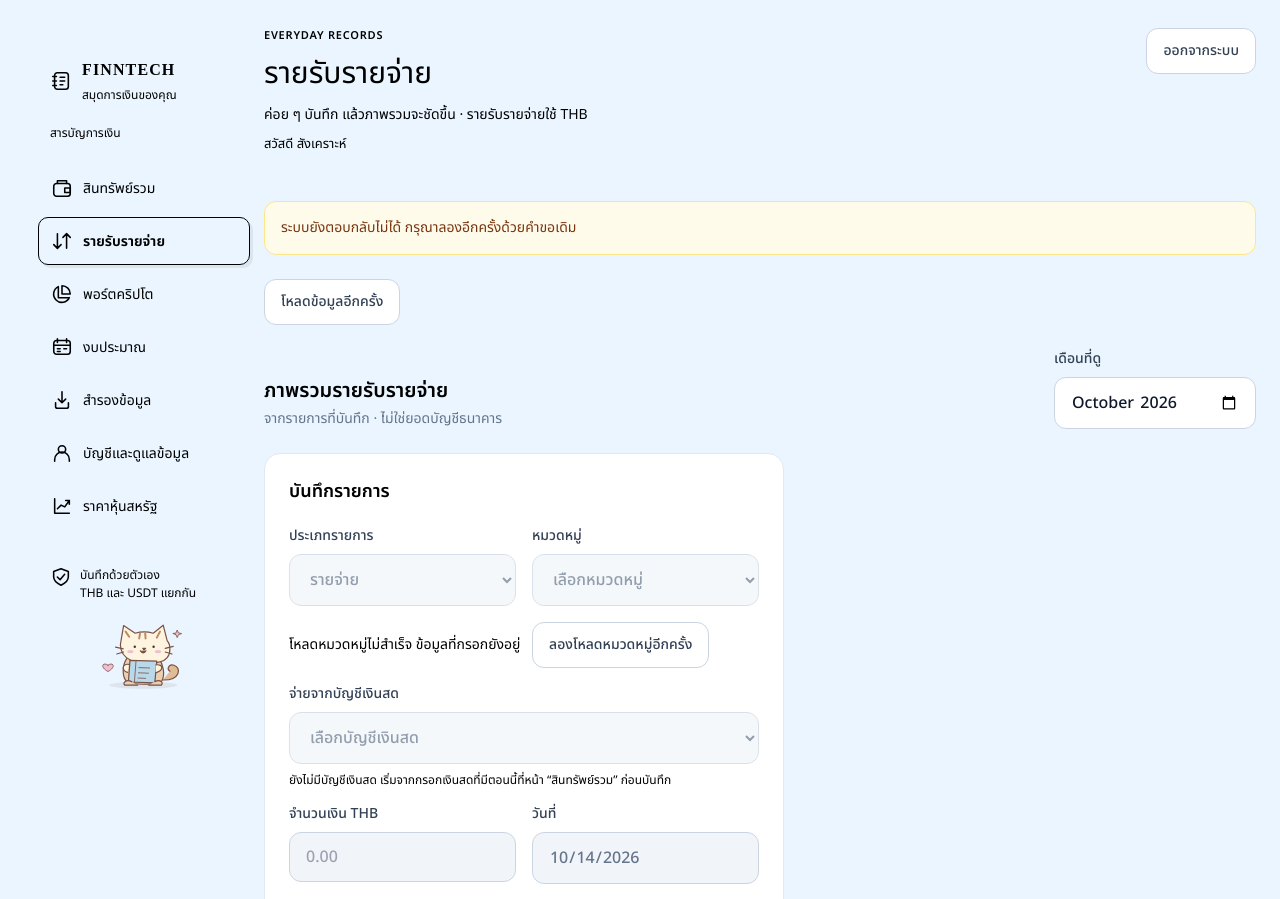
Test case: F3 category setup keeps the transaction draft › shows a retryable load error instead of an empty category state
This screenshot has width=1280, height=899.
Expected: the text "ยังไม่มีหมวดรายจ่าย" is not shown
Click the button "ลองโหลดหมวดหมู่อีกครั้ง" at (621, 644), box [532, 622, 709, 668]
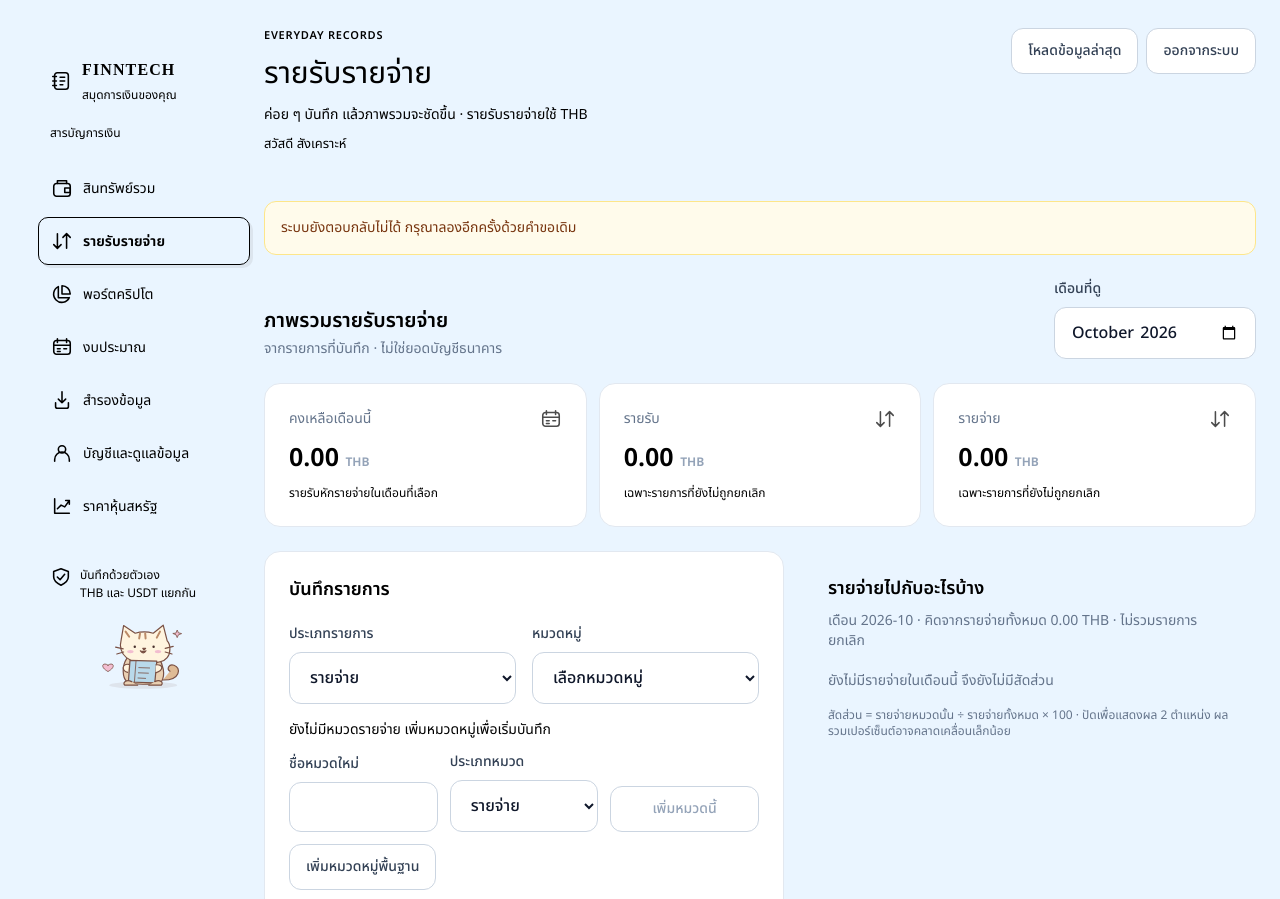
Result: the text "ยังไม่มีหมวดรายจ่าย เพิ่มหมวดหมู่เพื่อเริ่มบันทึก" is shown at [289, 718, 551, 740]
